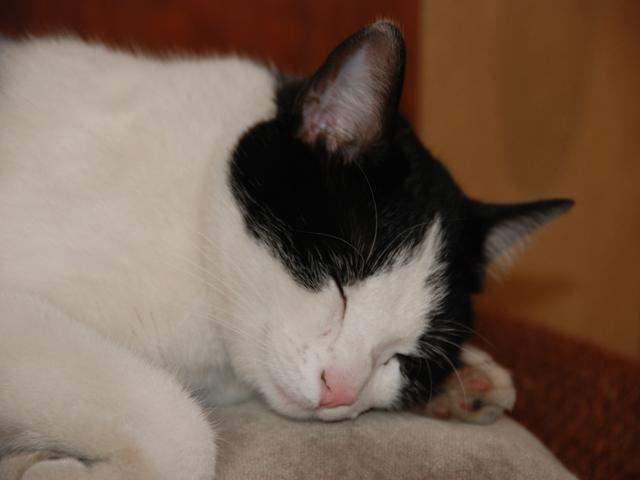cat: (19, 16, 576, 443)
